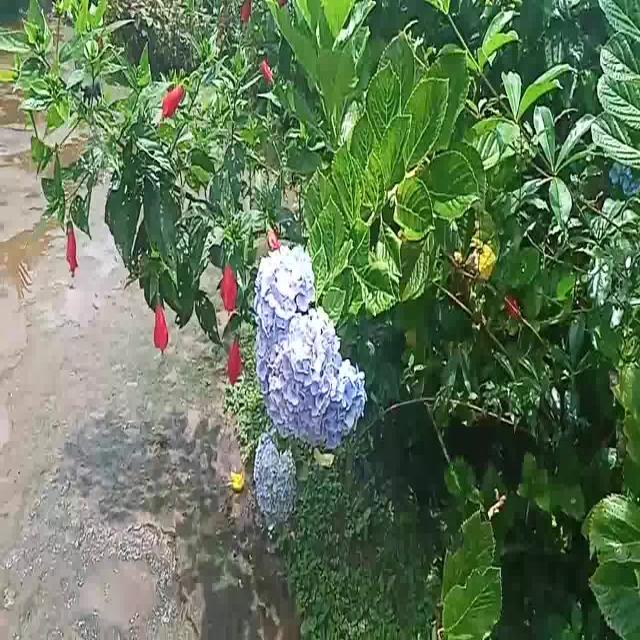Flower: (253, 237, 369, 454), (252, 436, 300, 526), (151, 285, 173, 366), (160, 69, 192, 123), (64, 216, 82, 286), (220, 255, 240, 317), (227, 330, 247, 388)
